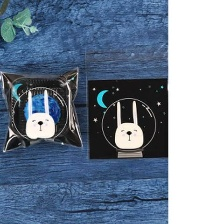snack: (80, 38, 168, 165), (0, 61, 87, 159)
